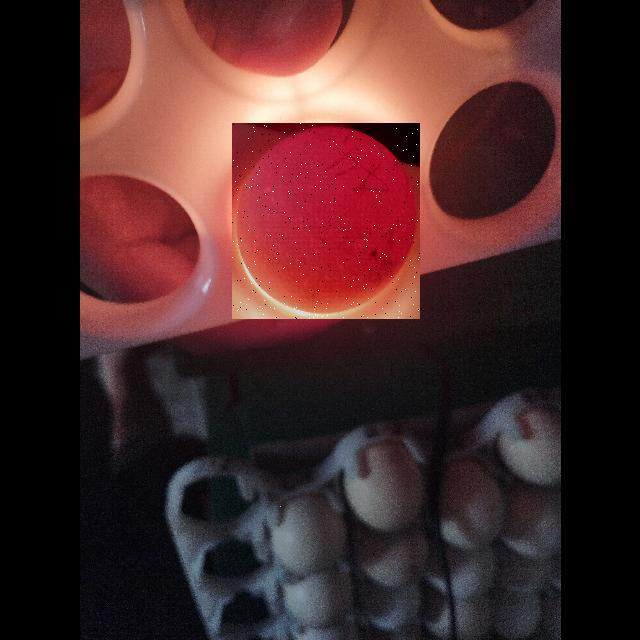A - Good: (232, 123, 420, 319)
